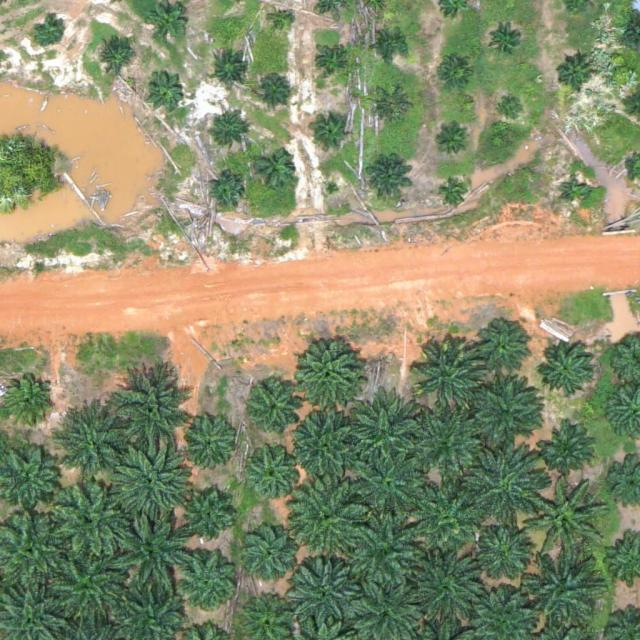Healthy: (413, 336, 491, 415), (408, 404, 486, 483), (411, 484, 489, 563), (411, 554, 489, 633), (349, 514, 427, 593), (352, 447, 430, 526), (348, 397, 426, 476), (288, 409, 366, 488), (288, 552, 366, 631), (114, 367, 192, 446), (111, 443, 189, 522), (112, 513, 190, 592), (58, 402, 136, 481), (54, 481, 132, 560), (50, 545, 128, 624), (464, 448, 542, 527), (526, 554, 604, 633), (524, 481, 602, 560), (295, 479, 373, 557), (466, 373, 544, 451), (291, 338, 362, 409), (177, 554, 240, 617), (179, 410, 241, 473), (244, 523, 299, 578), (248, 446, 303, 501), (477, 324, 532, 379), (479, 526, 534, 581), (538, 341, 593, 396), (542, 421, 596, 477), (248, 384, 302, 439), (182, 491, 236, 546)
Small: (366, 153, 413, 201), (249, 145, 296, 193), (144, 70, 184, 110), (147, 2, 186, 42), (207, 113, 247, 152), (312, 113, 351, 153), (207, 173, 246, 213), (490, 20, 529, 59), (212, 52, 251, 91), (254, 69, 293, 108), (374, 88, 413, 127), (556, 57, 595, 96), (96, 36, 135, 75), (440, 57, 471, 89), (561, 177, 592, 209), (498, 94, 529, 126), (375, 31, 406, 62), (34, 17, 65, 48), (436, 127, 467, 158), (315, 46, 346, 77), (440, 178, 471, 209), (272, 12, 296, 36)
